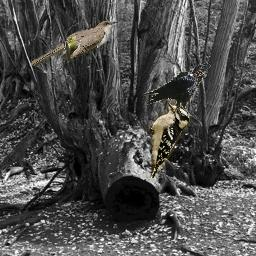Crow: (142, 63, 211, 116)
Cuckoo: (30, 20, 117, 66)
Woodpecker: (148, 102, 190, 178)
